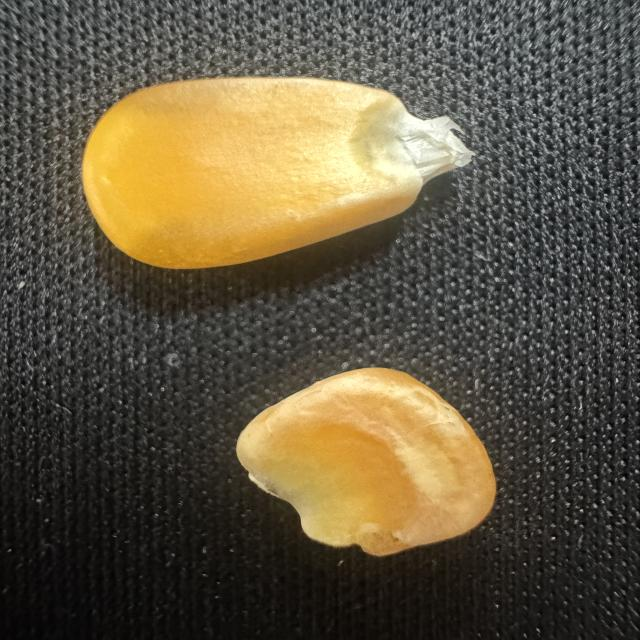Bad-Seed: (227, 354, 504, 574)
Good-Seed: (70, 69, 478, 278)
